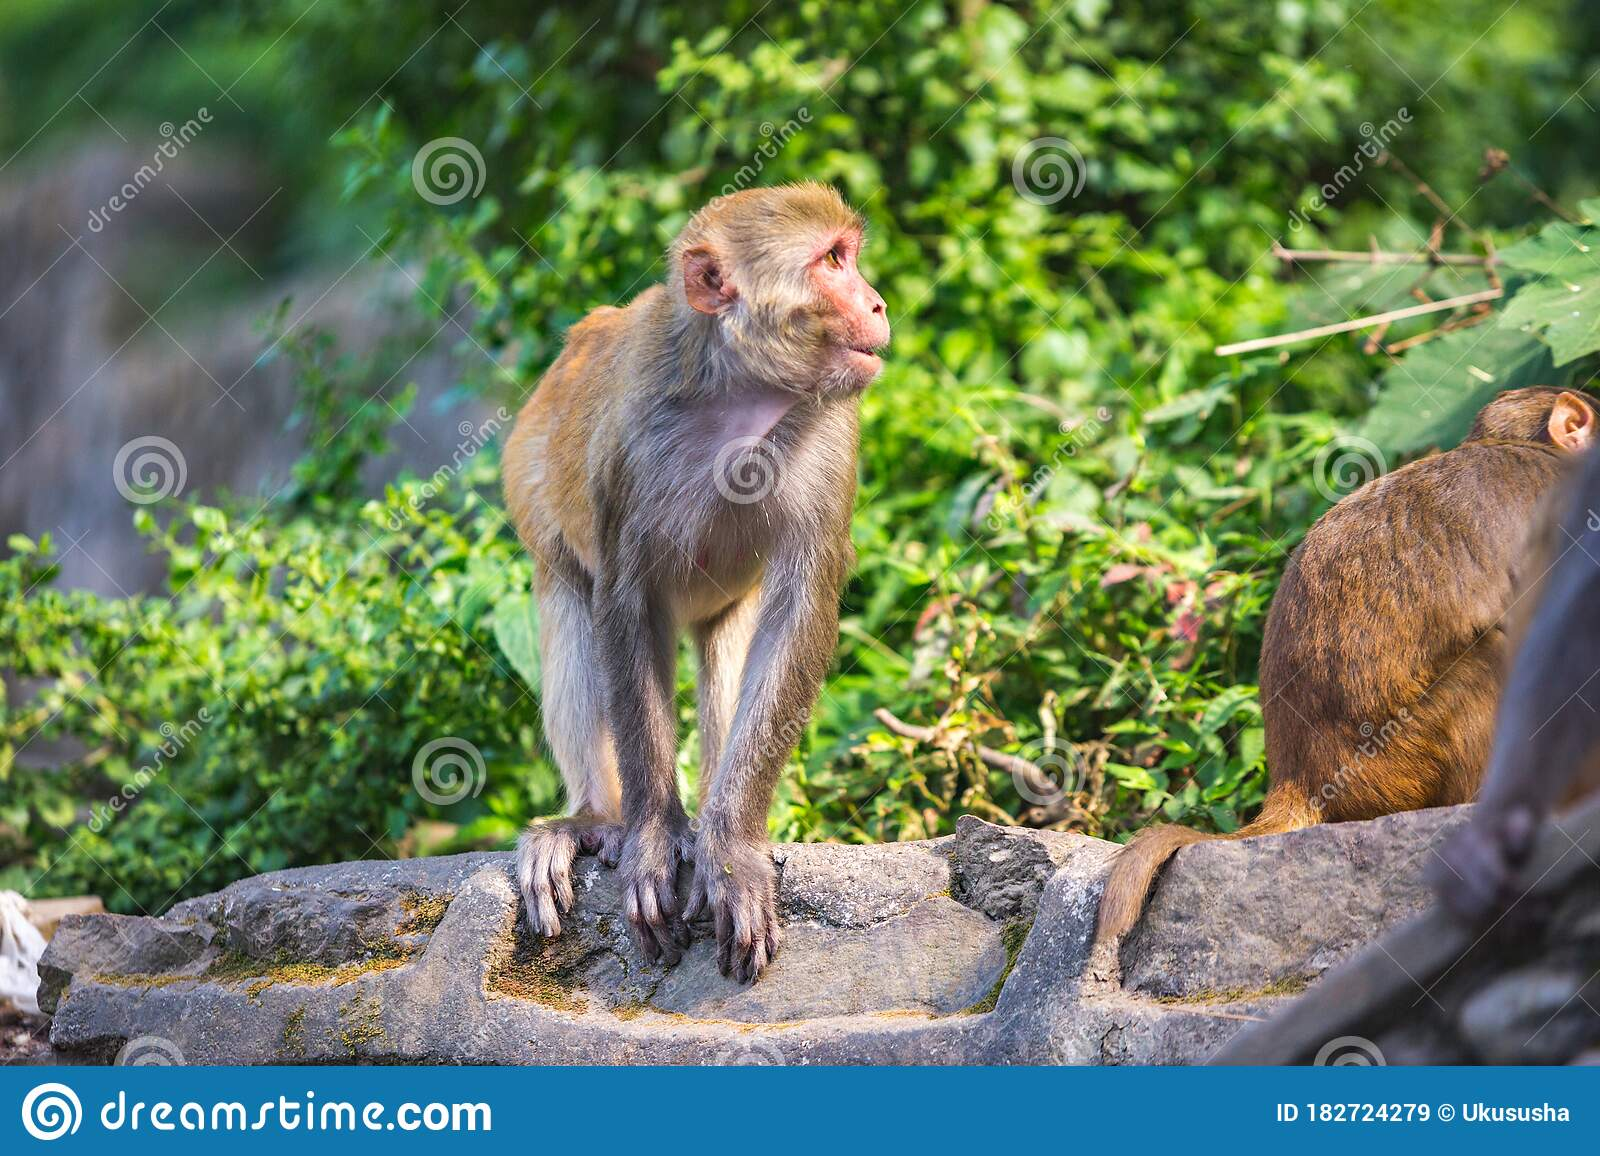monkey: (472, 178, 909, 978), (1237, 373, 1600, 869)
